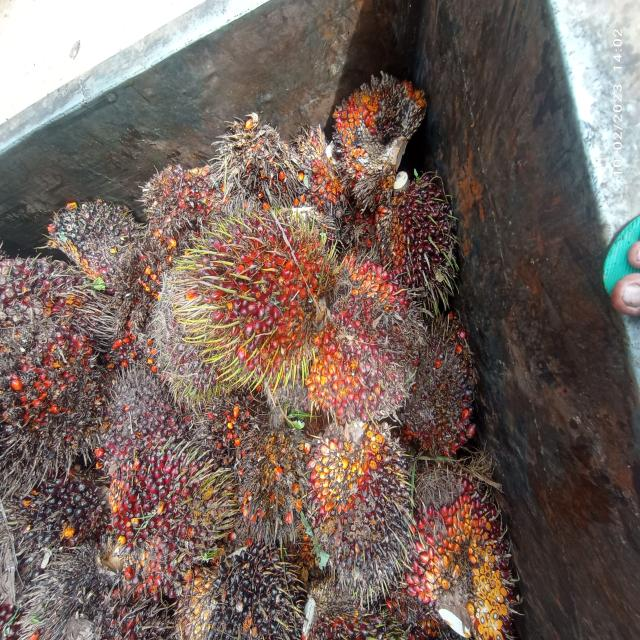fraksi 00: (297, 418, 426, 603), (6, 446, 104, 566), (199, 541, 303, 640), (49, 188, 134, 294)
fraksi 1: (383, 458, 536, 640), (100, 430, 216, 594), (399, 296, 496, 484), (375, 178, 459, 312)
fraksi 3: (171, 200, 334, 403), (304, 220, 436, 441)
fraksi 4: (9, 313, 110, 447), (322, 66, 432, 185), (235, 430, 309, 547)
